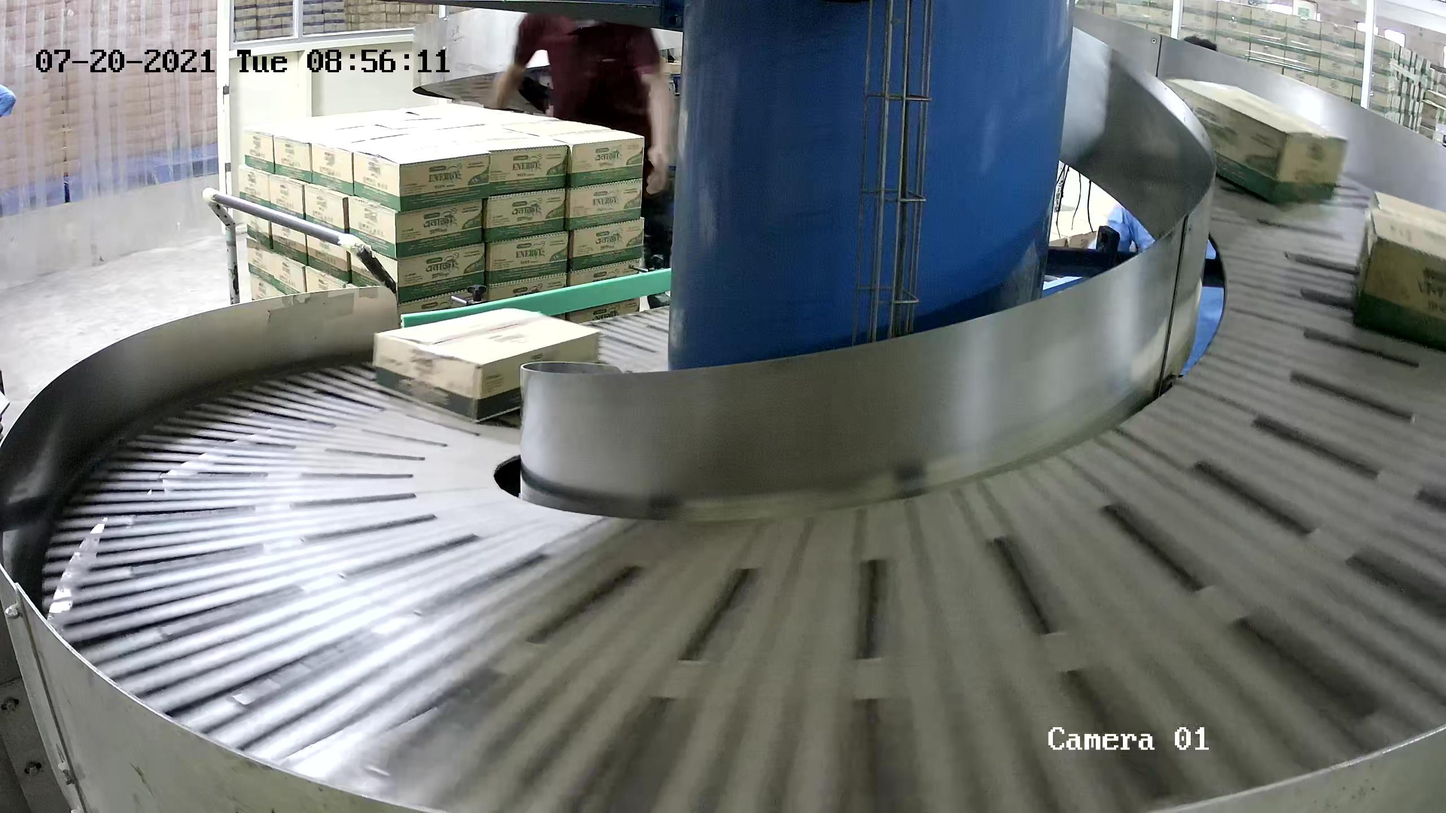Box: (371, 305, 601, 425), (1159, 75, 1352, 207), (1354, 187, 1446, 354)
